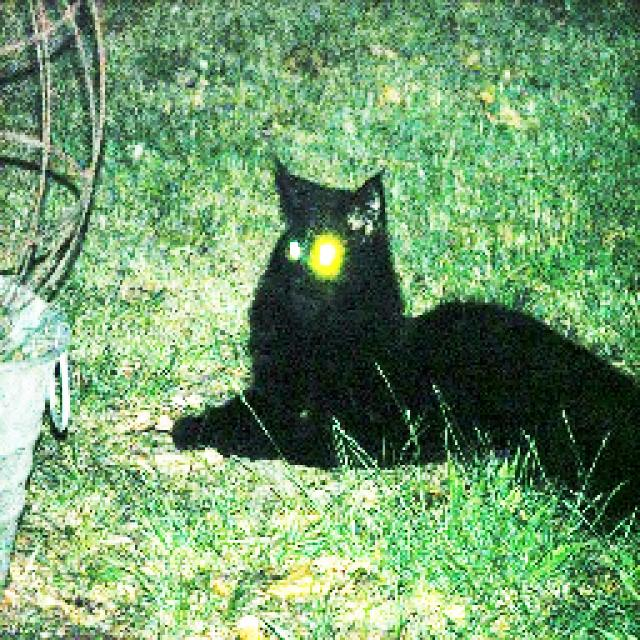cat: (170, 129, 640, 536)
